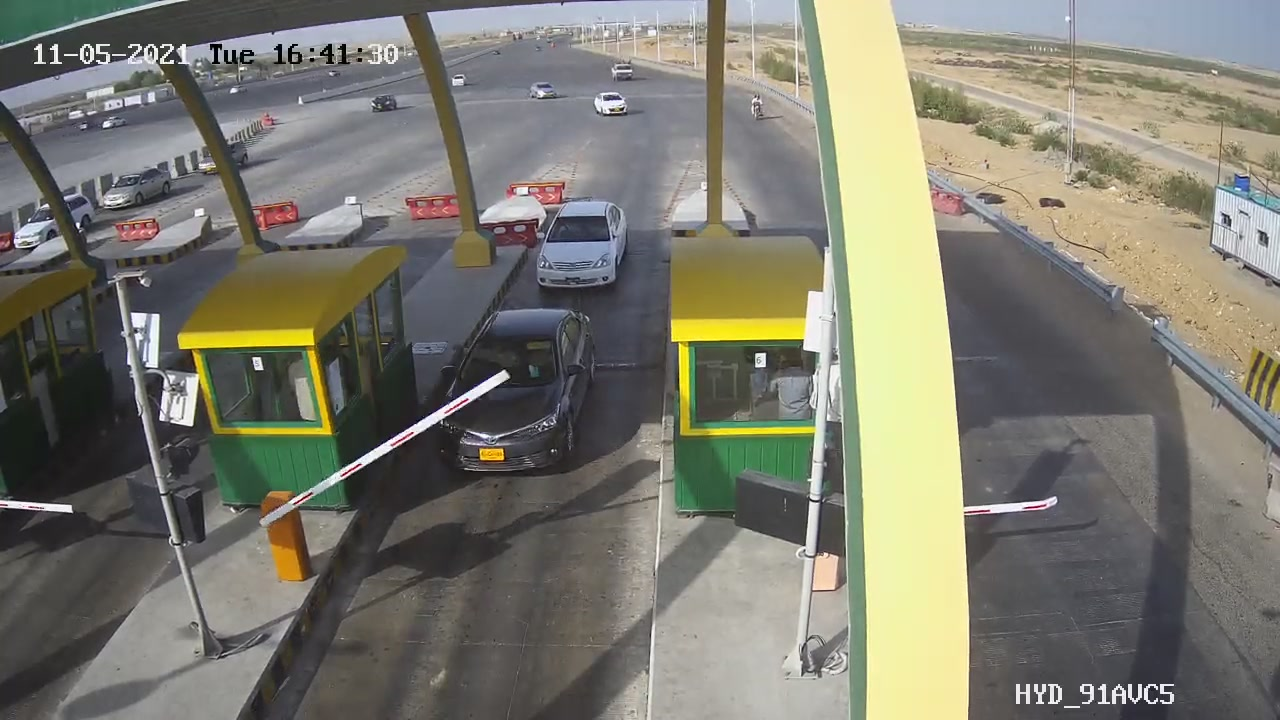F1: (414, 288, 624, 497), (515, 186, 645, 315)
